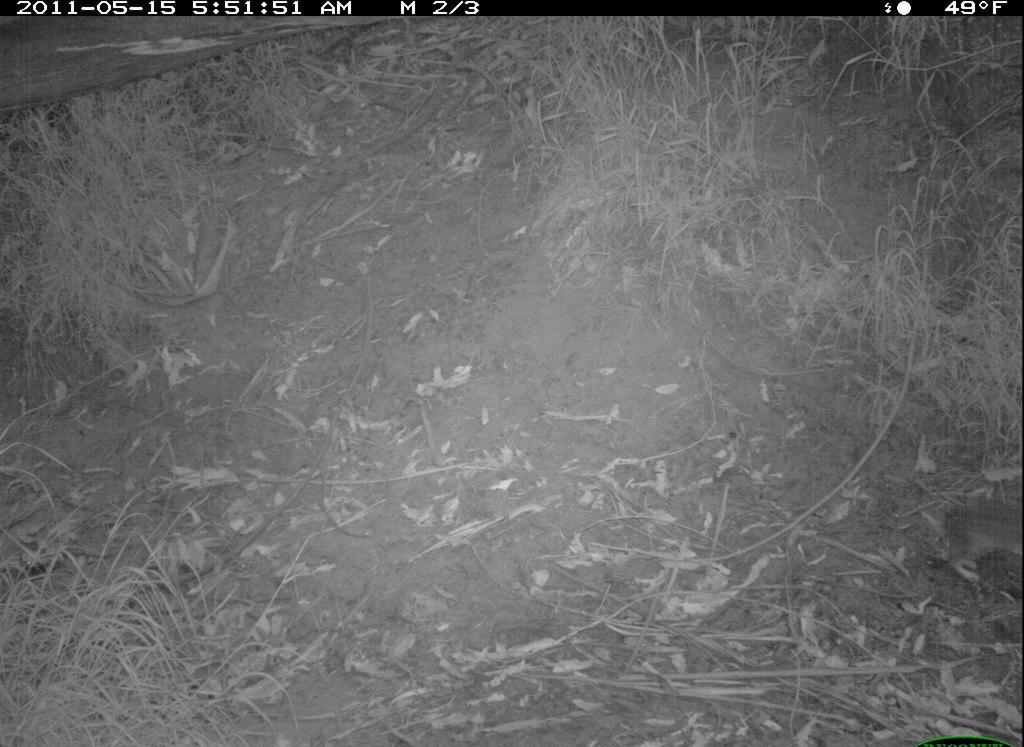rabbit: (929, 481, 1019, 584)
